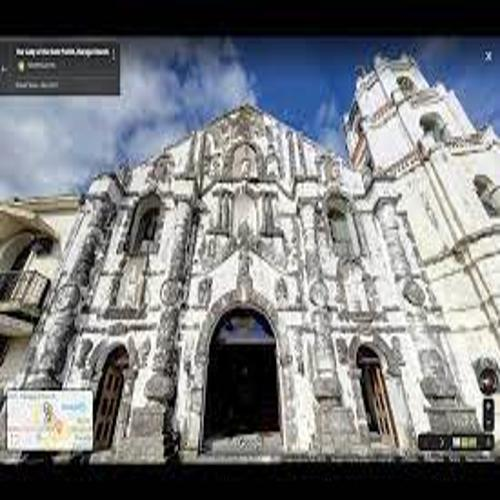Daraga Church: (61, 42, 500, 464)
